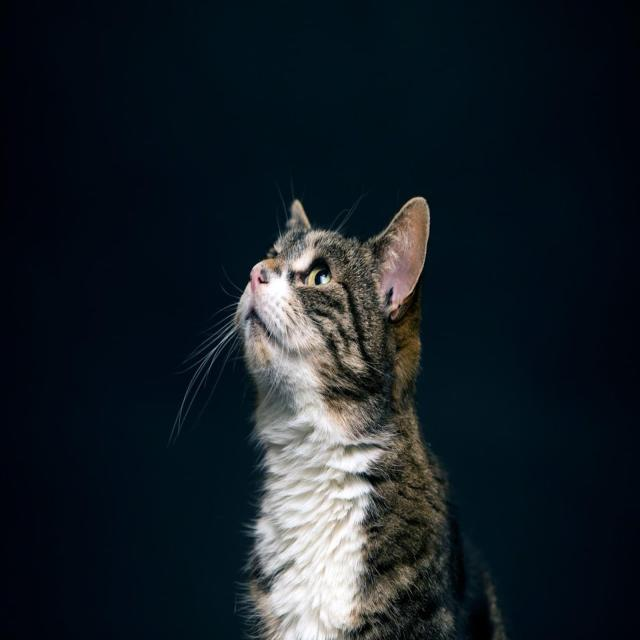Cat: (230, 182, 437, 402)
